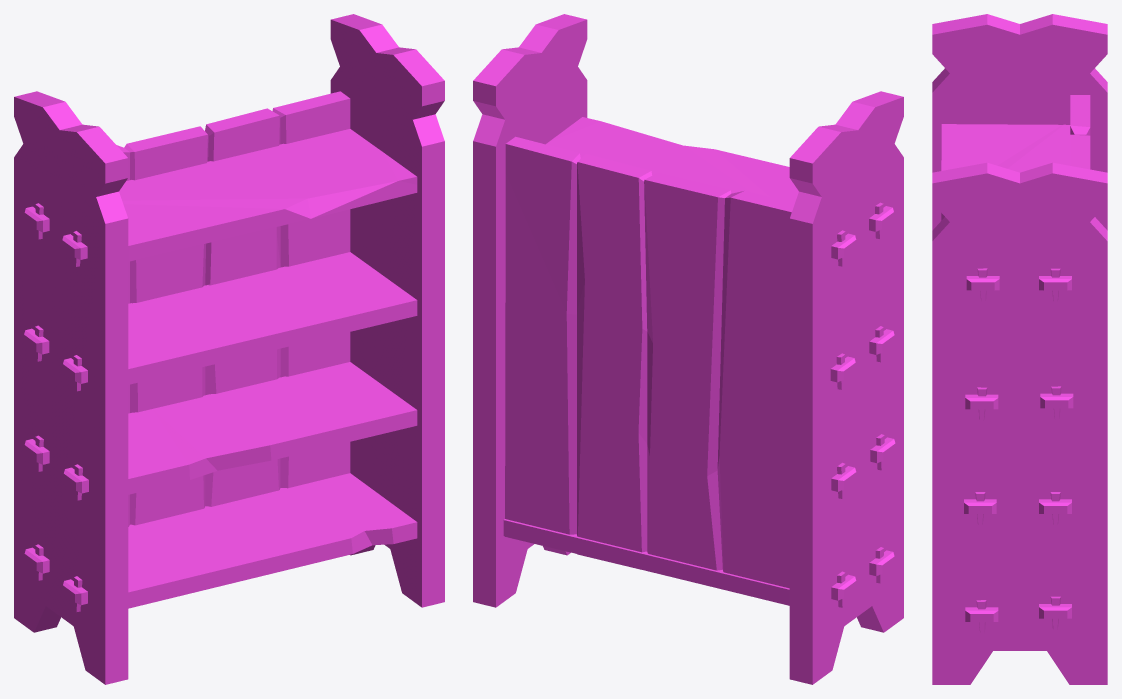
Rendered from SM_Shelf_Standing_Small_B_Fantasy.fbx.
3 views of the same model, side by side, from view 1: azimuth 30°, elevation 25°; view 2: azimuth 150°, elevation 25°; view 3: azimuth 270°, elevation 25° (orthographic). The views are drawn at different scales.
Parts seen in each view (by area): view 1: SM_Shelf_Standing_Small_B_Fantasy; view 2: SM_Shelf_Standing_Small_B_Fantasy; view 3: SM_Shelf_Standing_Small_B_Fantasy.
Part boxes in pixels (x1,y1,x2,y2): SM_Shelf_Standing_Small_B_Fantasy: [14, 14, 444, 684]; SM_Shelf_Standing_Small_B_Fantasy: [473, 14, 903, 684]; SM_Shelf_Standing_Small_B_Fantasy: [932, 14, 1107, 684].
Size of the model in its own units: 1 by 1.42 by 0.4402.
